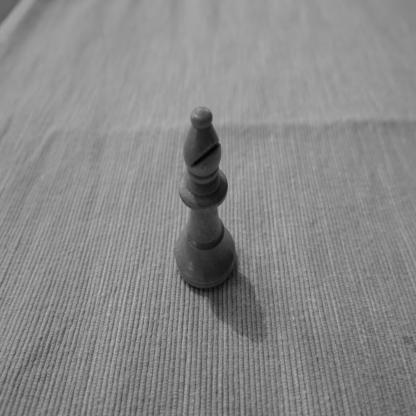white-bishop: (174, 105, 236, 292)
